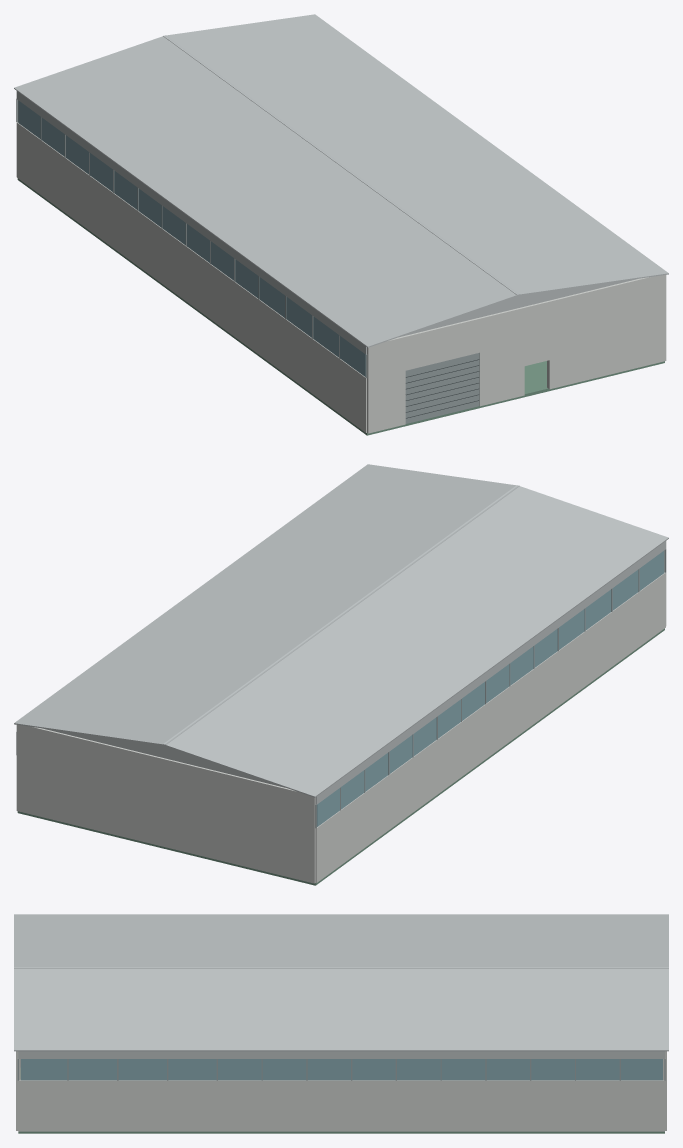
File: Galpao_Escritorio.fbx
The picture shows the model from 3 angles, top to bottom: view 1: azimuth 30°, elevation 25°; view 2: azimuth 150°, elevation 25°; view 3: azimuth 270°, elevation 25°; orthographic projection. The views are drawn at different scales.
Parts seen in each view (by area): view 1: 02_Cobertura_Cobertura, 03_Fachadas_Parede, 03_Fachadas_Janela, 03_Fachadas_Cobertura, Portao_carga, 04_Pisos_Piso, 03_Fachadas_Estrutura; view 2: 02_Cobertura_Cobertura, 03_Fachadas_Parede, 03_Fachadas_Janela, 03_Fachadas_Cobertura, 04_Pisos_Piso, 03_Fachadas_Estrutura; view 3: 02_Cobertura_Cobertura, 03_Fachadas_Parede, 03_Fachadas_Janela, 03_Fachadas_Cobertura, 04_Pisos_Piso, 03_Fachadas_Estrutura.
Part boxes in pixels (bbox=[...]): 02_Cobertura_Cobertura: bbox=[14, 14, 668, 347]; 03_Fachadas_Parede: bbox=[16, 100, 666, 433]; 03_Fachadas_Janela: bbox=[18, 100, 365, 376]; 03_Fachadas_Cobertura: bbox=[16, 91, 636, 354]; Portao_carga: bbox=[405, 353, 479, 423]; 04_Pisos_Piso: bbox=[17, 178, 664, 435]; 03_Fachadas_Estrutura: bbox=[16, 99, 367, 378]; 02_Cobertura_Cobertura: bbox=[14, 464, 668, 797]; 03_Fachadas_Parede: bbox=[16, 541, 666, 883]; 03_Fachadas_Janela: bbox=[317, 551, 664, 826]; 03_Fachadas_Cobertura: bbox=[42, 541, 665, 804]; 04_Pisos_Piso: bbox=[17, 628, 664, 885]; 03_Fachadas_Estrutura: bbox=[16, 549, 666, 828]; 02_Cobertura_Cobertura: bbox=[14, 914, 668, 1051]; 03_Fachadas_Parede: bbox=[16, 1051, 666, 1131]; 03_Fachadas_Janela: bbox=[21, 1059, 662, 1080]; 03_Fachadas_Cobertura: bbox=[18, 1051, 664, 1058]; 04_Pisos_Piso: bbox=[18, 1068, 664, 1133]; 03_Fachadas_Estrutura: bbox=[17, 1058, 665, 1080].
Bounding box in the file's own units: 3235 × 1094 × 6583.
